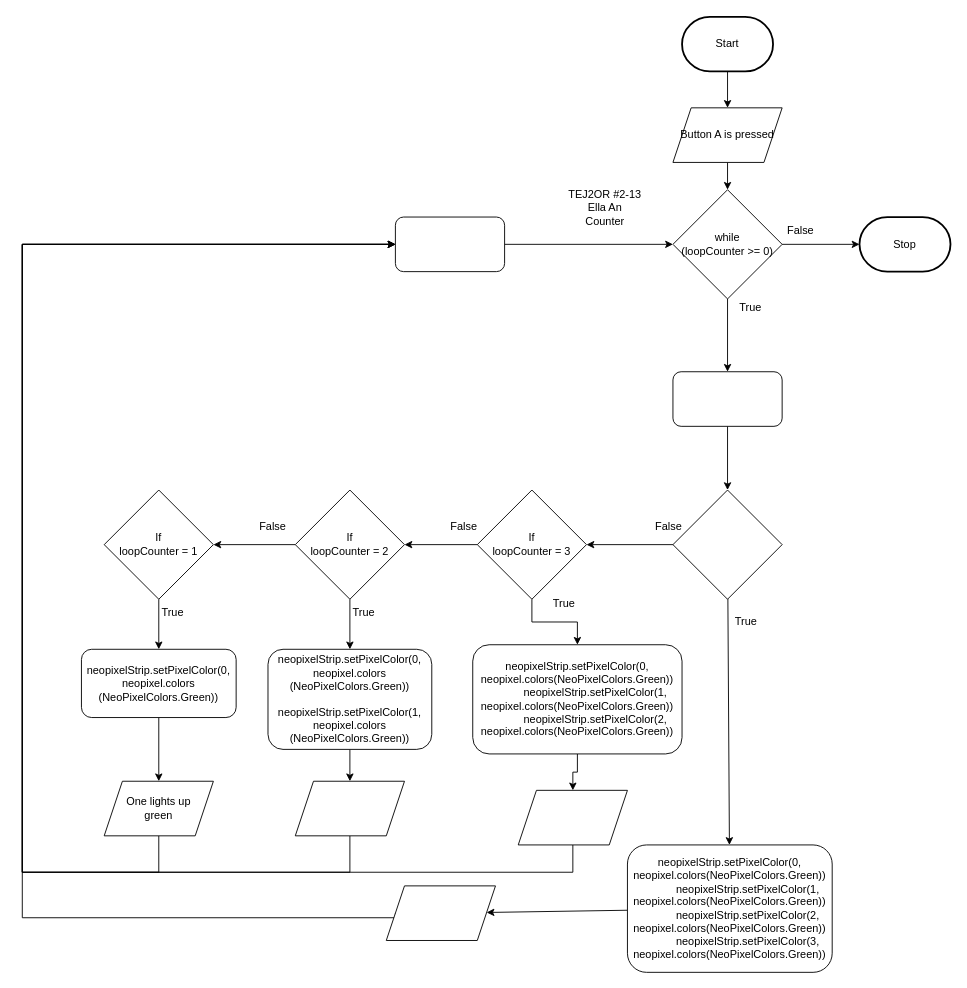
Some shapes in this 967 by 988 pixel diagram are drawn without their labels. Here are the shapes that lost their labels. From the top down, the centre of each, then its label:
At point (449, 244): "loopCounter = loopCounter - 1".
At point (727, 398): "basic.showNumber (loopCounter)".
At point (727, 544): "If loopCounter = 4".
At point (349, 808): "Two lights up green".
At point (572, 817): "Three lights up green".
At point (440, 912): "All lights up green".
